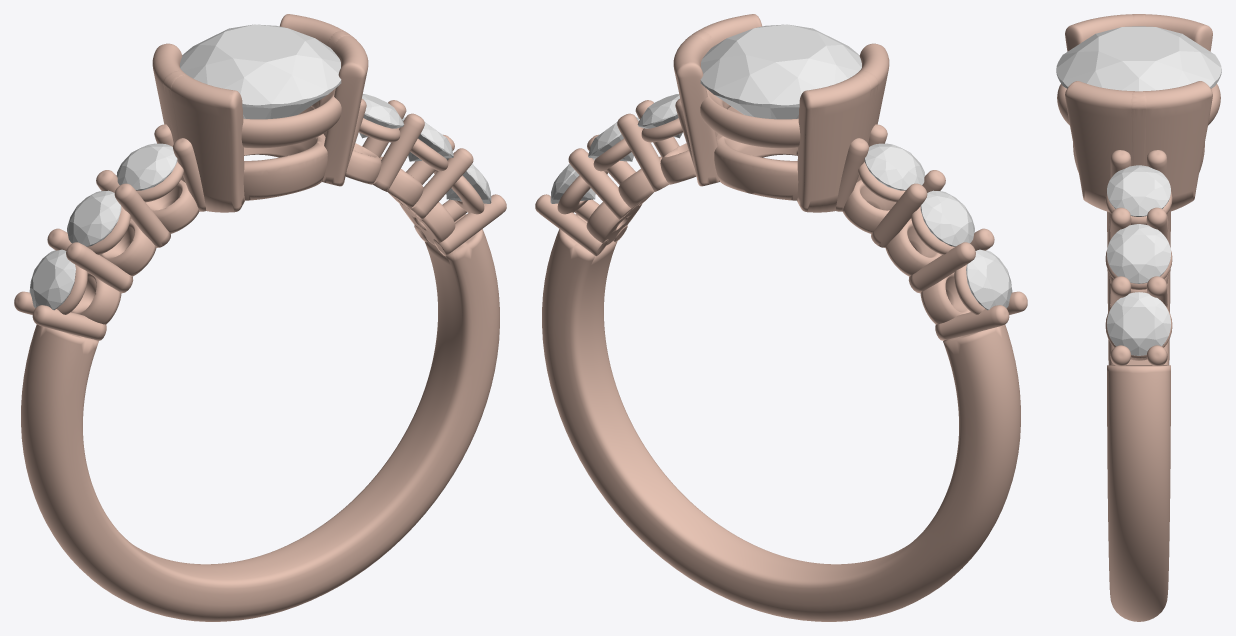
The model's file is diamond-round-rosegold-halfmoonbezel-straightband-3stone.glb.
3 views of the same model, side by side, from view 1: azimuth 30°, elevation 25°; view 2: azimuth 150°, elevation 25°; view 3: azimuth 270°, elevation 25° (orthographic). The views are drawn at different scales.
Visible parts, largest first — view 1: metal, stone, side.004, side.005, side.003, side, side.001, side.002; view 2: metal, stone, side.004, side.005, side.003, side, side.001, side.002; view 3: metal, stone, side.002, side.001, side.
Part boxes in pixels (bbox=[...]): metal: bbox=[14, 14, 506, 621]; stone: bbox=[180, 24, 341, 119]; side.004: bbox=[67, 190, 121, 246]; side.005: bbox=[29, 249, 75, 310]; side.003: bbox=[116, 143, 177, 190]; side: bbox=[359, 94, 404, 138]; side.001: bbox=[402, 117, 453, 161]; side.002: bbox=[446, 158, 491, 203]; metal: bbox=[535, 14, 1027, 621]; stone: bbox=[700, 24, 861, 119]; side.004: bbox=[920, 190, 974, 246]; side.005: bbox=[966, 249, 1012, 310]; side.003: bbox=[864, 143, 925, 190]; side: bbox=[637, 94, 682, 138]; side.001: bbox=[588, 117, 639, 161]; side.002: bbox=[550, 158, 595, 203]; metal: bbox=[1057, 14, 1220, 621]; stone: bbox=[1056, 26, 1221, 91]; side.002: bbox=[1107, 292, 1170, 355]; side.001: bbox=[1107, 224, 1170, 283]; side: bbox=[1107, 165, 1170, 216].
Bounding box in the file's own units: 20.58 × 23.81 × 6.44.
